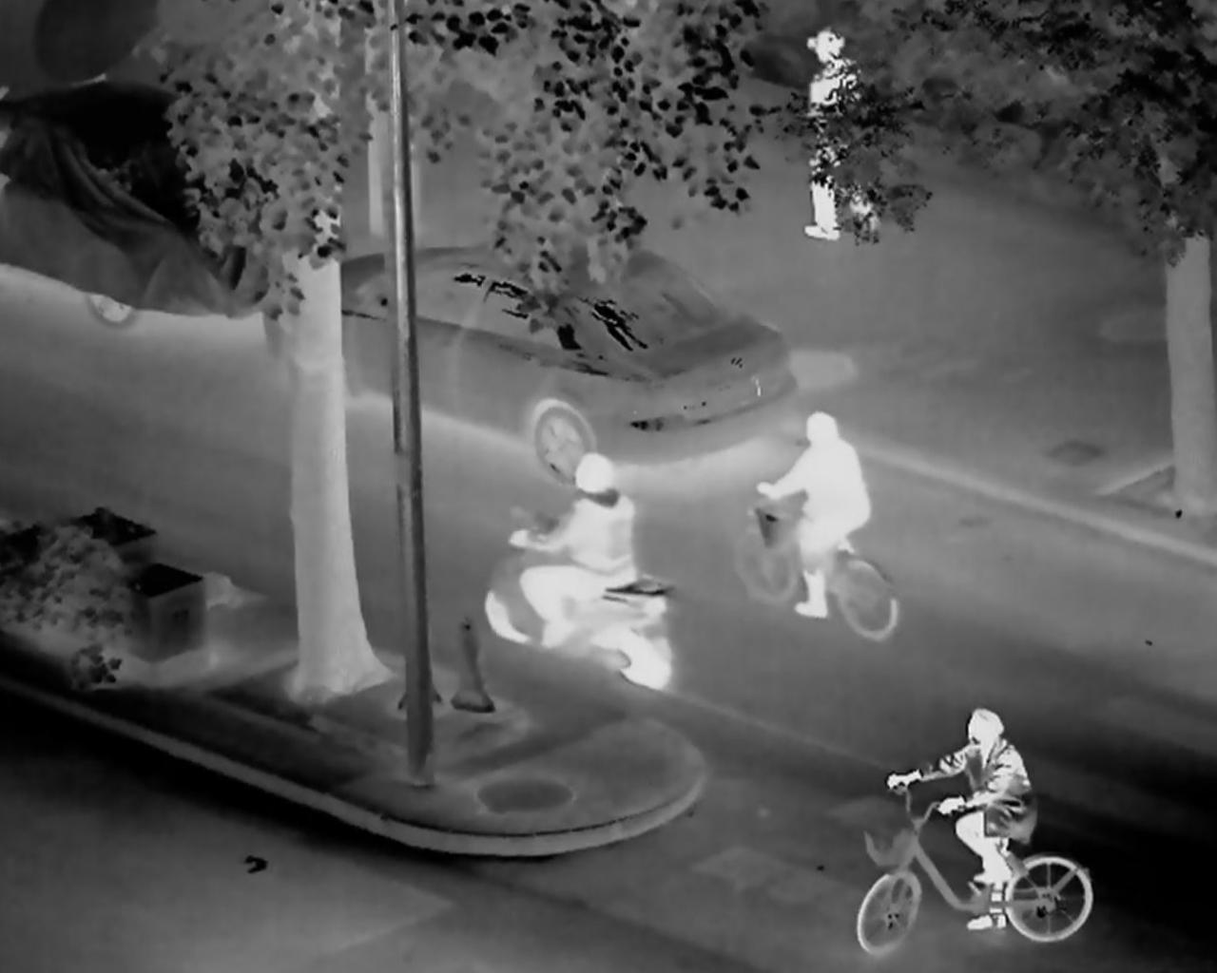person: (887, 707, 1037, 933), (511, 451, 638, 644), (758, 410, 871, 621), (804, 29, 884, 242)
